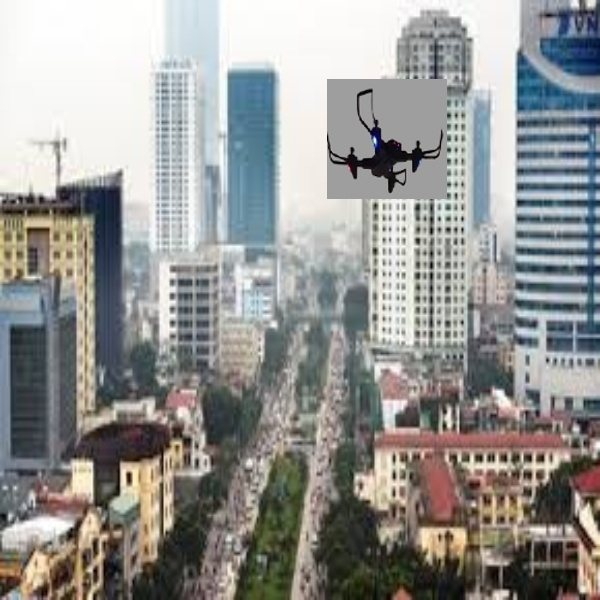drone: (327, 80, 449, 199)
